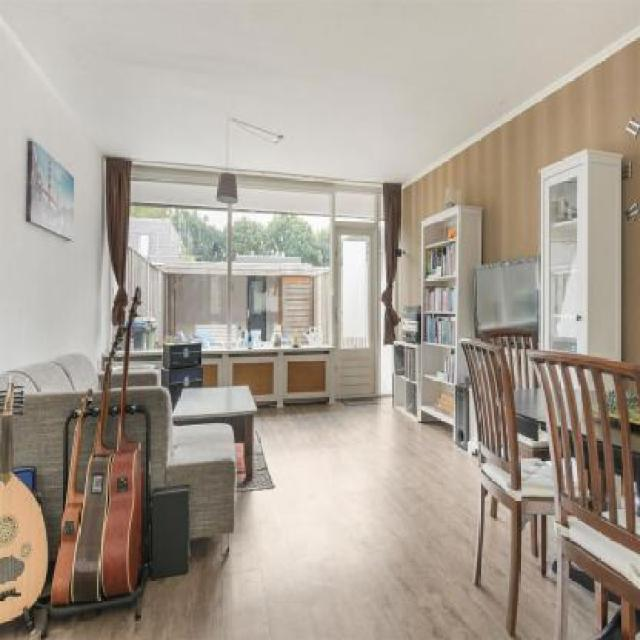floor: (46, 397, 526, 640)
